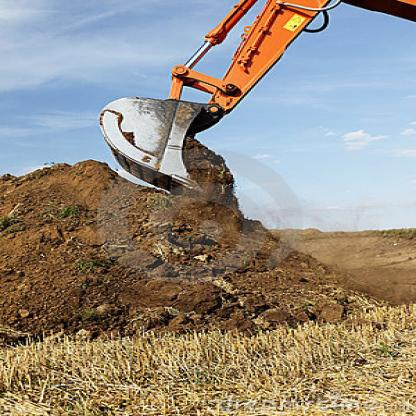excavator: (86, 4, 415, 204)
